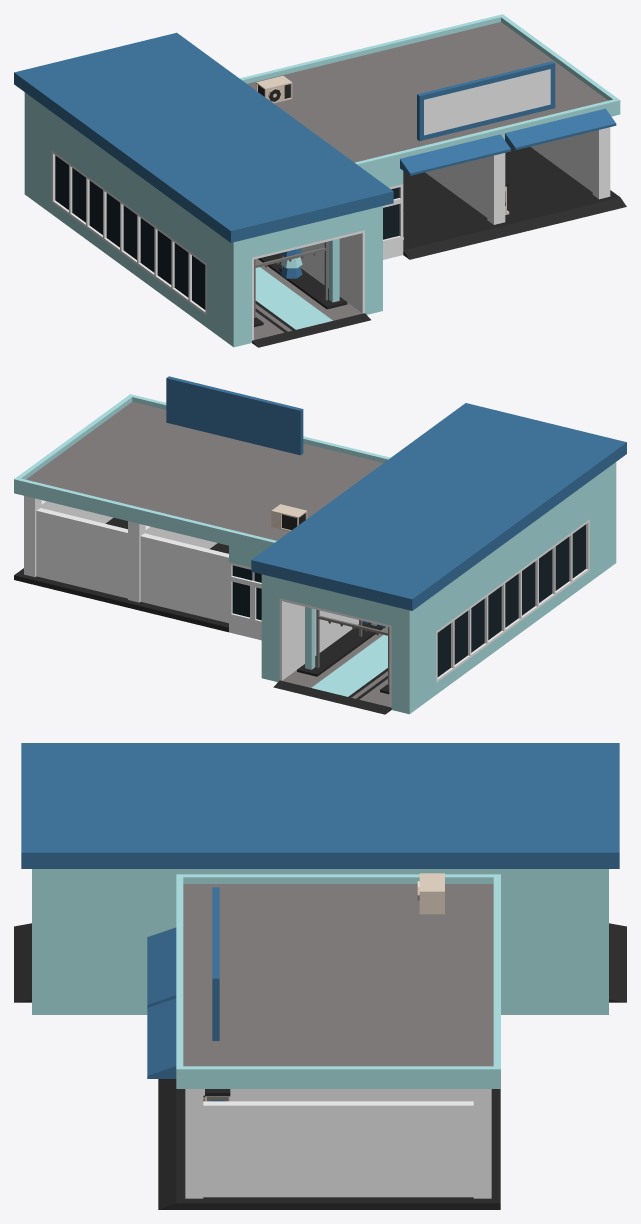
The model's file is building-carwash.glb.
3 views of the same model, one above another, from view 1: azimuth 30°, elevation 25°; view 2: azimuth 150°, elevation 25°; view 3: azimuth 270°, elevation 25° (orthographic). The views are drawn at different scales.
Visible parts, largest first — view 1: building-carwash; view 2: building-carwash; view 3: building-carwash.
Boxes of the visible parts, x1,y1,x2,y2 form: building-carwash: [14, 14, 626, 347]; building-carwash: [14, 376, 626, 714]; building-carwash: [14, 743, 626, 1209].
Size of the model in its own units: 19.7 by 6 by 17.
1 material, 1 textured.
